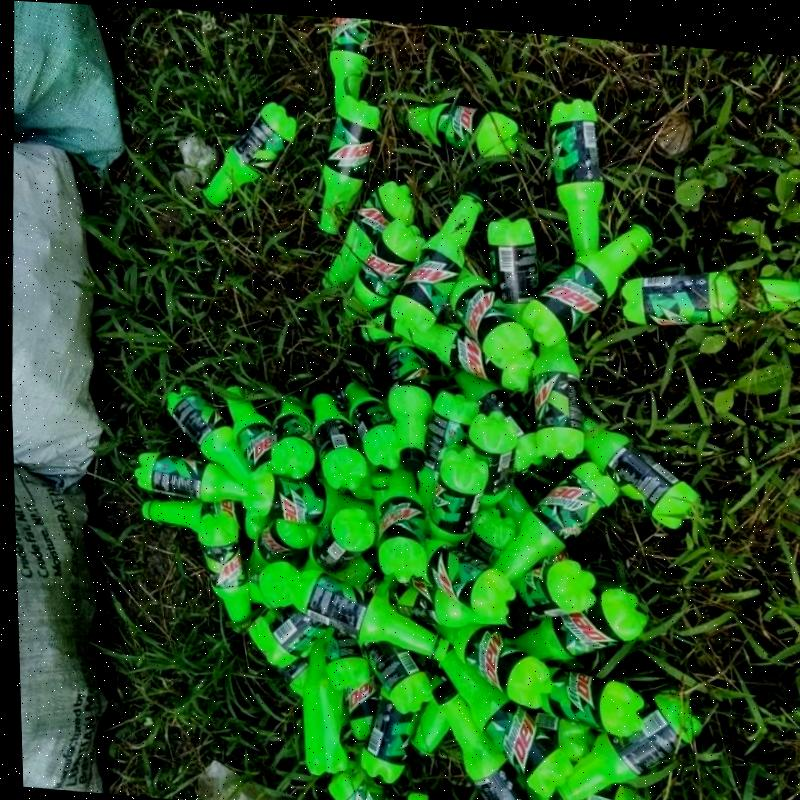plastic bottle: (441, 642, 572, 797), (521, 220, 655, 345), (550, 694, 703, 800), (493, 460, 620, 582), (288, 569, 450, 659), (583, 417, 705, 530), (390, 184, 484, 330), (432, 679, 542, 800), (319, 18, 380, 233), (384, 307, 536, 391), (433, 621, 552, 708), (202, 101, 296, 207), (622, 270, 800, 325), (513, 587, 648, 659), (322, 179, 412, 287), (550, 97, 605, 256), (168, 383, 247, 487), (450, 268, 532, 367), (343, 217, 422, 319), (388, 576, 530, 628), (242, 471, 375, 525), (426, 539, 516, 617), (418, 389, 477, 507), (545, 666, 644, 736), (531, 335, 587, 457), (394, 102, 518, 156), (385, 336, 432, 472), (427, 447, 489, 542), (199, 510, 251, 623), (303, 640, 346, 775), (356, 638, 432, 714), (377, 468, 427, 582), (133, 450, 246, 500), (311, 392, 367, 489), (141, 497, 265, 539), (487, 217, 539, 315), (360, 697, 419, 783), (223, 377, 277, 470), (342, 376, 397, 467), (305, 507, 376, 572), (519, 558, 597, 616), (247, 516, 317, 573), (271, 395, 315, 477)
